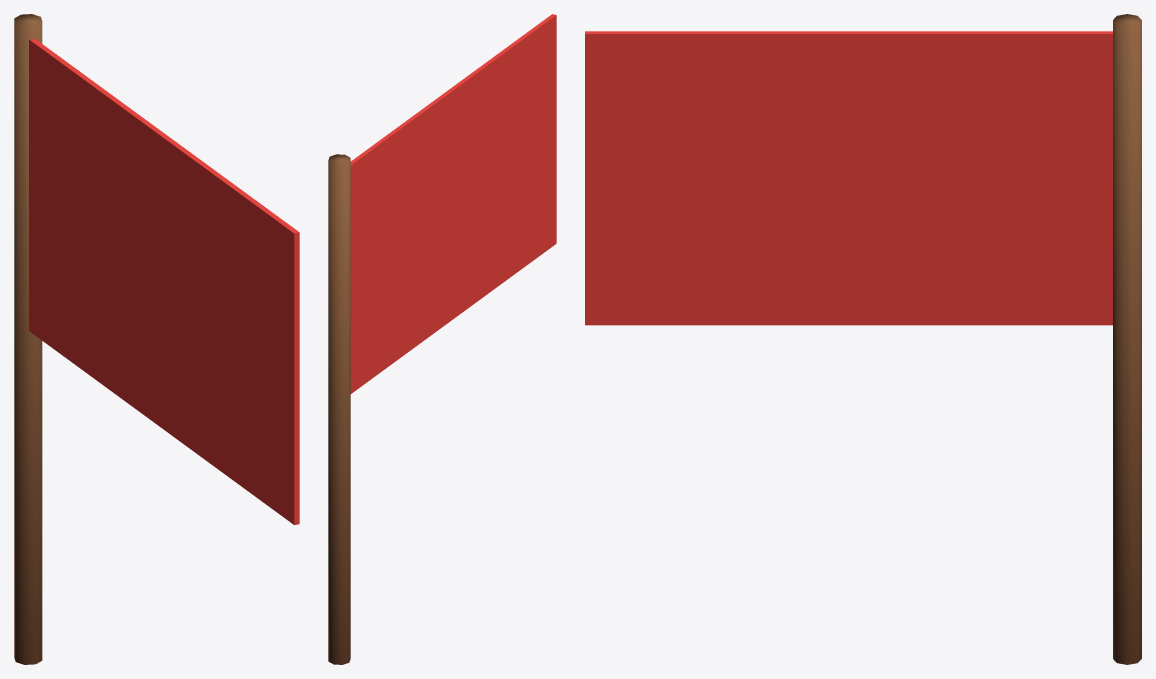
The model's file is flag.fbx.
The picture shows the model from 3 angles, left to right: view 1: azimuth 30°, elevation 25°; view 2: azimuth 150°, elevation 25°; view 3: azimuth 270°, elevation 25°; orthographic projection. The views are drawn at different scales.
Parts seen in each view (by area): view 1: flag; view 2: flag; view 3: flag.
Boxes of the visible parts, left/top/right/bottom form: flag: left=14, top=14, right=299, bottom=664; flag: left=328, top=14, right=556, bottom=664; flag: left=585, top=14, right=1141, bottom=664.
Size of the model in its own units: 13.53 by 328 by 259.
Materials: 1 (1 with a texture image).
